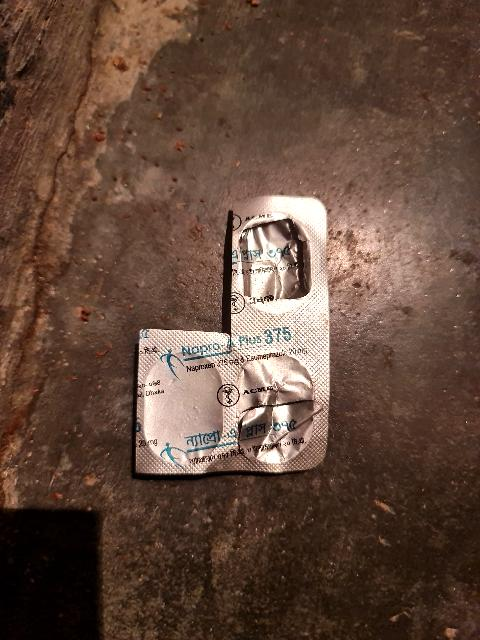medicine: (131, 192, 333, 480)
